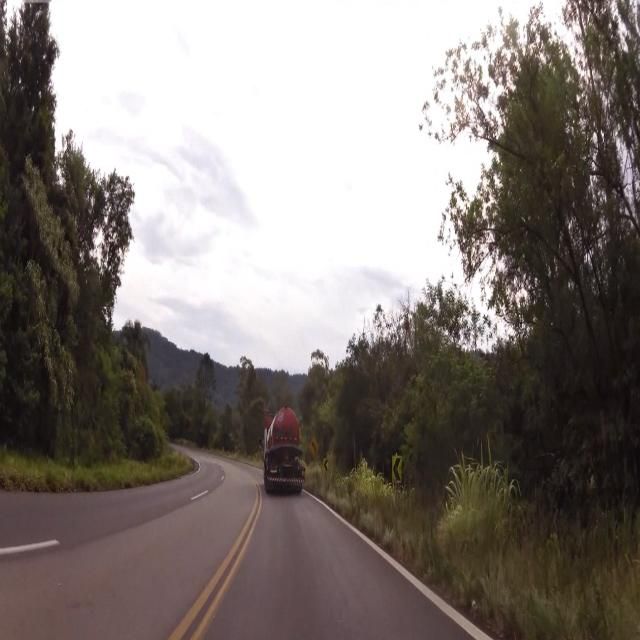Del: (388, 448, 403, 486)
